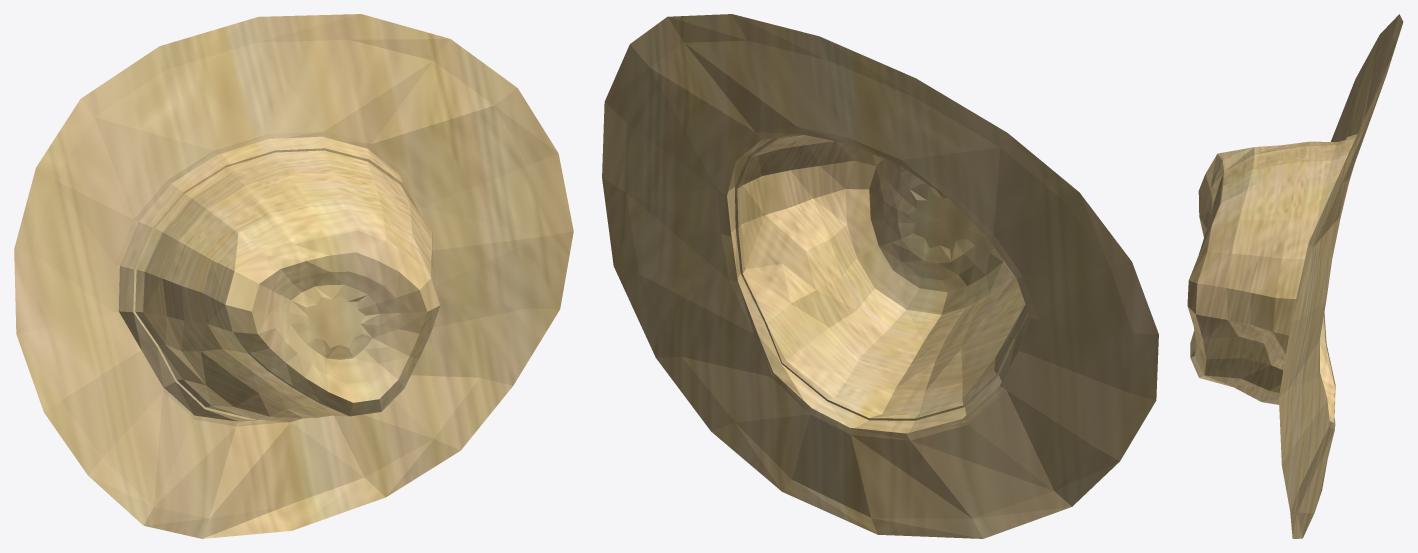
File: hay.obj
The picture shows the model from 3 angles, left to right: view 1: azimuth 30°, elevation 25°; view 2: azimuth 150°, elevation 25°; view 3: azimuth 270°, elevation 25°; orthographic projection. The views are drawn at different scales.
Parts seen in each view (by area): view 1: Object.1; view 2: Object.1; view 3: Object.1.
Boxes of the visible parts, x1,y1,x2,y2 form: Object.1: [14, 14, 573, 538]; Object.1: [602, 14, 1158, 538]; Object.1: [1187, 14, 1403, 538].
Size of the model in its own units: 58.64 by 50.69 by 21.59.
